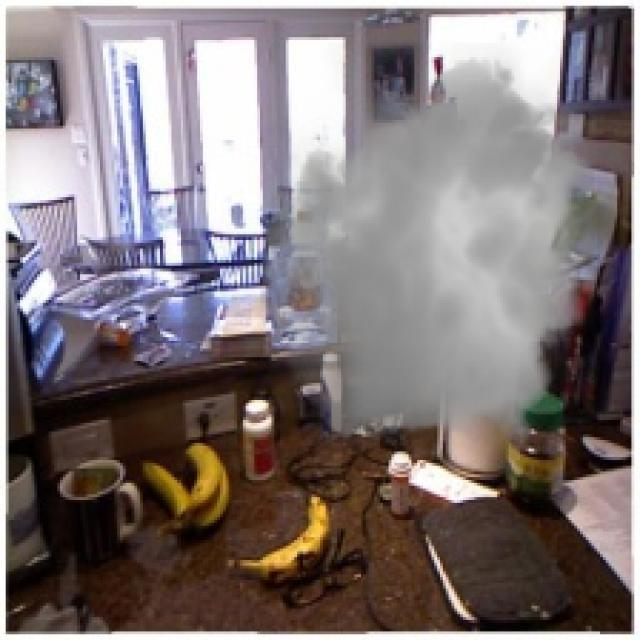Smoke: (248, 43, 612, 460)
